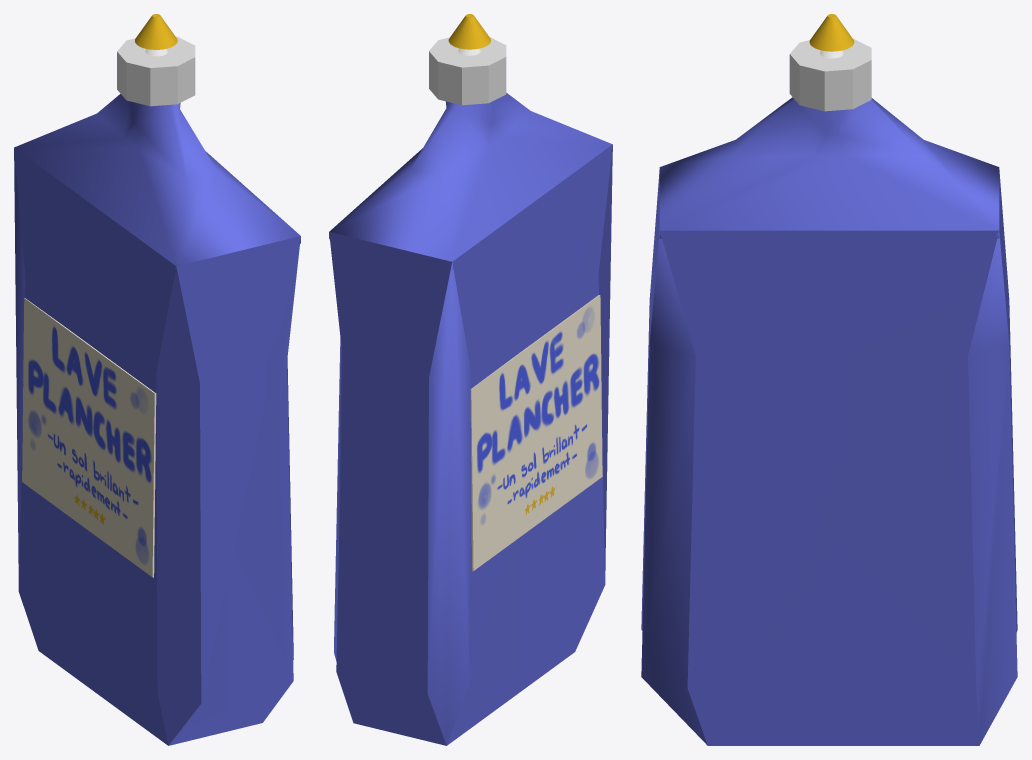
Rendered from ShineProductREAL.fbx.
3 renders of one model, left to right at view 1: azimuth 30°, elevation 25°; view 2: azimuth 150°, elevation 25°; view 3: azimuth 270°, elevation 25°, orthographic. The views are drawn at different scales.
Visible parts, largest first — view 1: Cube, Cylinder.001, Cone.002; view 2: Cube, Cylinder.001, Cone.002; view 3: Cube, Cylinder.001, Cone.002.
Boxes of the visible parts, x1,y1,x2,y2 form: Cube: (14,94,300,745); Cylinder.001: (117,36,195,106); Cone.002: (135,14,177,49); Cube: (329,93,612,745); Cylinder.001: (429,37,506,105); Cone.002: (448,14,490,49); Cube: (641,97,1017,745); Cylinder.001: (789,38,871,111); Cone.002: (809,14,854,51).
Size of the model in its own units: 38.52 by 181 by 87.32.
3 materials, 1 textured.
